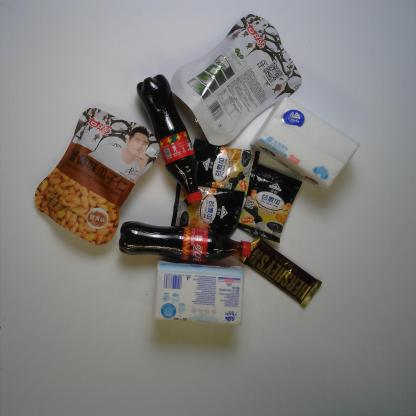Chocolate: (238, 236, 322, 309)
Dried Fruit: (169, 13, 304, 149), (34, 106, 162, 248)
Drink: (135, 73, 204, 204), (113, 220, 256, 264)
Instant Drink: (234, 161, 304, 247), (187, 135, 259, 196), (170, 178, 247, 235)
Tissue: (248, 96, 361, 193), (153, 259, 246, 326)
